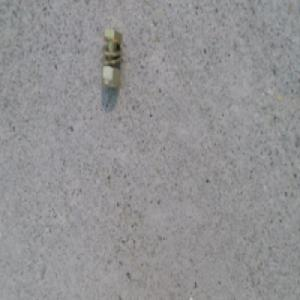BoltNutSet: (93, 23, 116, 88)
